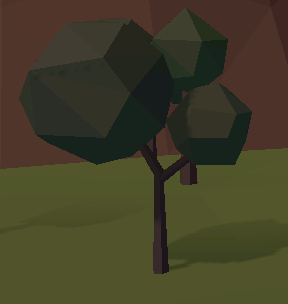tree: (18, 5, 253, 274), (147, 5, 234, 188)
